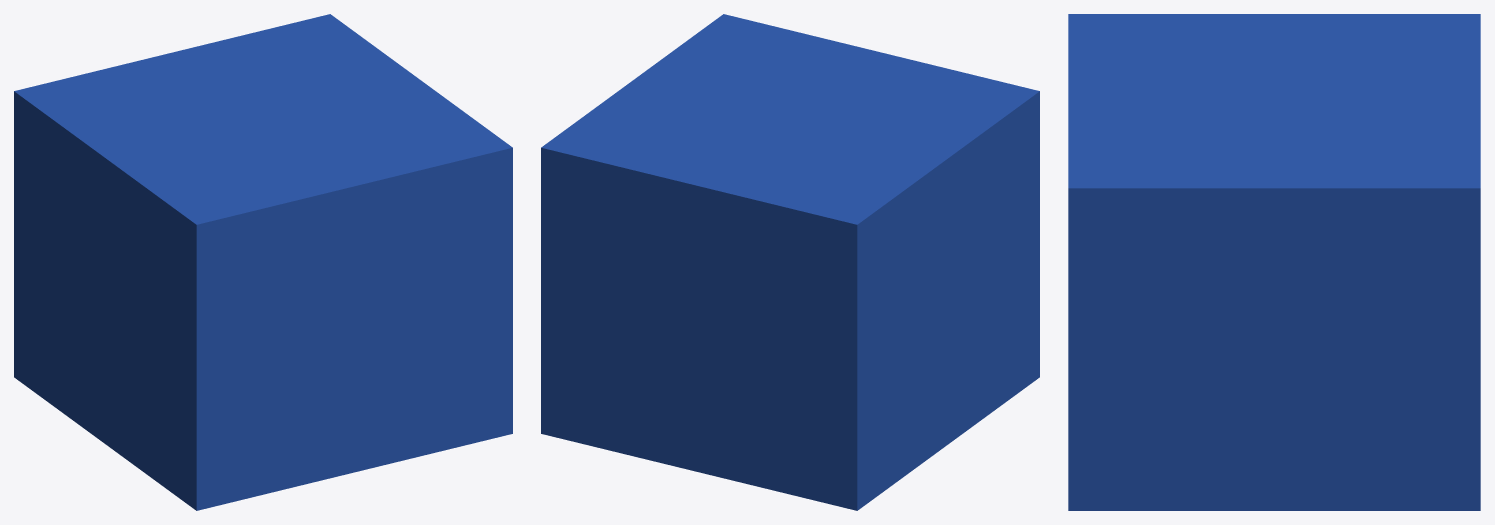
The picture shows the model from 3 angles, left to right: view 1: azimuth 30°, elevation 25°; view 2: azimuth 150°, elevation 25°; view 3: azimuth 270°, elevation 25°; orthographic projection. The views are drawn at different scales.
Parts seen in each view (by area): view 1: X2_sh_9, X2_sh_10, X2_sh_12, X2_sh_14, X2_sh_1, X2_sh_4, X2_sh_7, X2_sh_6, X2_sh_17, X2_sh_16, X2_sh_3, X2_sh_11 (+2 smaller); view 2: X2_sh_16, X2_sh_8, X2_sh_11, X2_sh_7, X2_sh_9, X2_sh_14, X2_sh_13, X2_sh_17, X2_sh_5, X2_sh_1, X2_sh_10, X2_sh_3 (+2 smaller); view 3: X2_sh_11, X2_sh_19, X2_sh_1, X2_sh_4, X2_sh_14, X2_sh_13, X2_sh_3, X2_sh_2, X2_sh_10, X2_sh_5, X2_sh_6, X2_sh_7 (+1 smaller).
Boxes of the visible parts, x1,y1,x2,y2 form: X2_sh_9: (98,173,326,440); X2_sh_10: (237,136,433,387); X2_sh_12: (122,380,356,510); X2_sh_14: (80,60,279,222); X2_sh_1: (307,89,512,279); X2_sh_4: (393,209,512,395); X2_sh_7: (14,58,149,255); X2_sh_6: (348,360,512,471); X2_sh_17: (59,267,161,455); X2_sh_16: (14,156,78,393); X2_sh_3: (249,71,432,139); X2_sh_11: (196,14,412,74); X2_sh_16: (738,277,921,510); X2_sh_8: (614,267,814,500); X2_sh_11: (541,86,675,303); X2_sh_7: (723,176,954,296); X2_sh_9: (913,81,1039,330); X2_sh_14: (726,101,991,213); X2_sh_13: (541,289,673,465); X2_sh_17: (902,277,1004,475); X2_sh_5: (664,123,792,277); X2_sh_1: (644,14,805,95); X2_sh_10: (803,34,998,103); X2_sh_3: (625,72,822,125); X2_sh_11: (1292,114,1480,362); X2_sh_19: (1188,283,1423,484); X2_sh_1: (1068,109,1249,302); X2_sh_4: (1068,257,1227,467); X2_sh_14: (1164,14,1475,96); X2_sh_13: (1361,348,1480,510); X2_sh_3: (1212,96,1355,295); X2_sh_2: (1146,408,1363,510); X2_sh_10: (1068,36,1219,142); X2_sh_5: (1288,87,1480,150); X2_sh_6: (1068,406,1190,510); X2_sh_7: (1332,14,1480,87).
Bounding box in the file's own units: 200 × 173 × 200.
